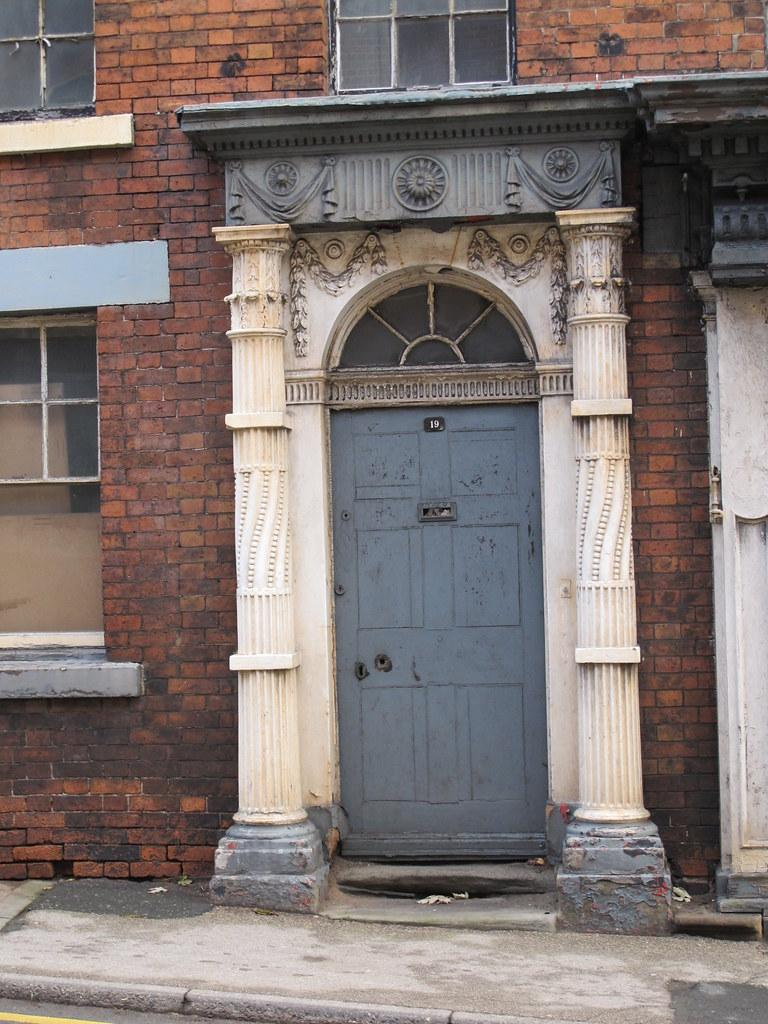door: (329, 401, 550, 859)
